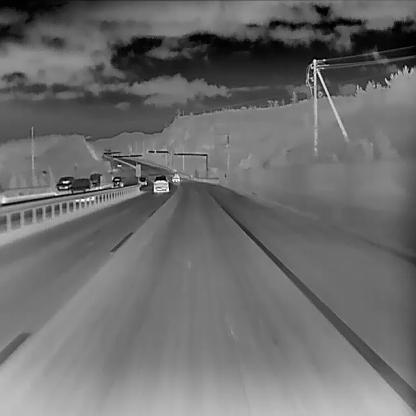car: (70, 177, 96, 202), (52, 174, 75, 196), (152, 174, 170, 192), (88, 172, 104, 188), (110, 176, 124, 188), (136, 176, 147, 186), (171, 172, 179, 181), (116, 161, 121, 166)
